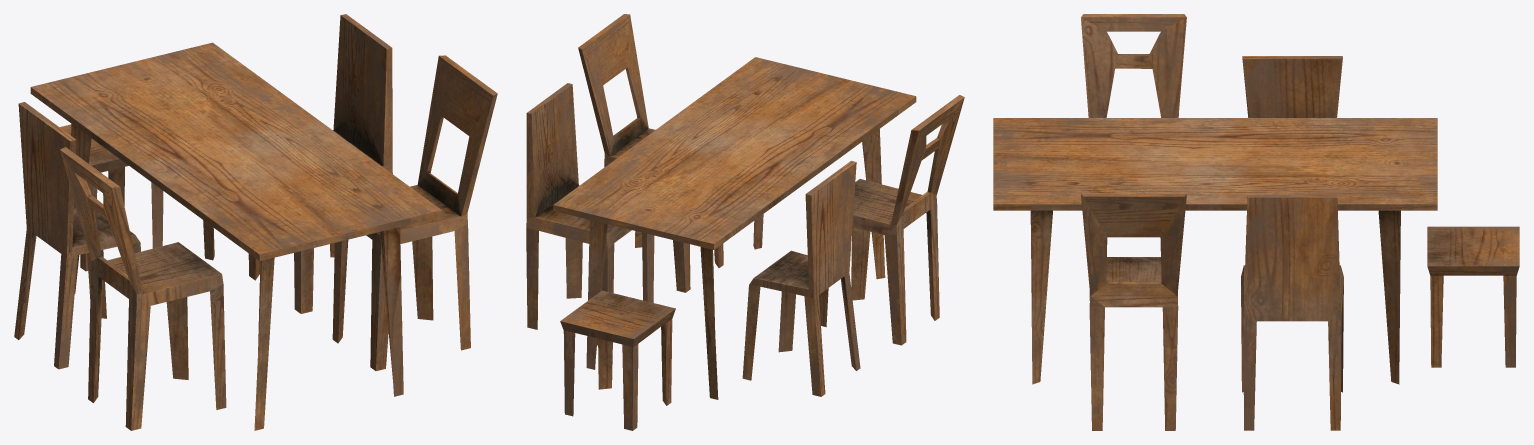
The model's file is tavoloStanzapuzzle.fbx.
3 views of the same model, side by side, from view 1: azimuth 30°, elevation 25°; view 2: azimuth 150°, elevation 25°; view 3: azimuth 270°, elevation 25° (orthographic). The views are drawn at different scales.
Visible parts, largest first — view 1: Ultra.003, Ultra, Ultra.004, Ultra.001, Ultra.005, Ultra.006; view 2: Ultra.003, Ultra.001, Ultra.005, Ultra, Ultra.006, Ultra.004; view 3: Ultra.003, Ultra.005, Ultra.004, Ultra, Ultra.006, Ultra.001.
Part boxes in pixels (x1,y1,x2,y2): Ultra.003: [30, 42, 441, 430]; Ultra: [60, 147, 226, 430]; Ultra.004: [332, 55, 497, 370]; Ultra.001: [14, 102, 147, 369]; Ultra.005: [248, 14, 392, 313]; Ultra.006: [59, 124, 163, 271]; Ultra.003: [553, 57, 916, 399]; Ultra.001: [742, 160, 860, 396]; Ultra.005: [526, 83, 654, 345]; Ultra: [819, 95, 964, 345]; Ultra.006: [560, 290, 675, 430]; Ultra.004: [578, 14, 723, 292]; Ultra.003: [993, 118, 1437, 384]; Ultra.005: [1241, 195, 1343, 430]; Ultra.004: [1081, 194, 1186, 430]; Ultra: [1081, 14, 1186, 117]; Ultra.006: [1427, 226, 1519, 367]; Ultra.001: [1242, 56, 1342, 117].
Size of the model in its own units: 220 by 138 by 268.
